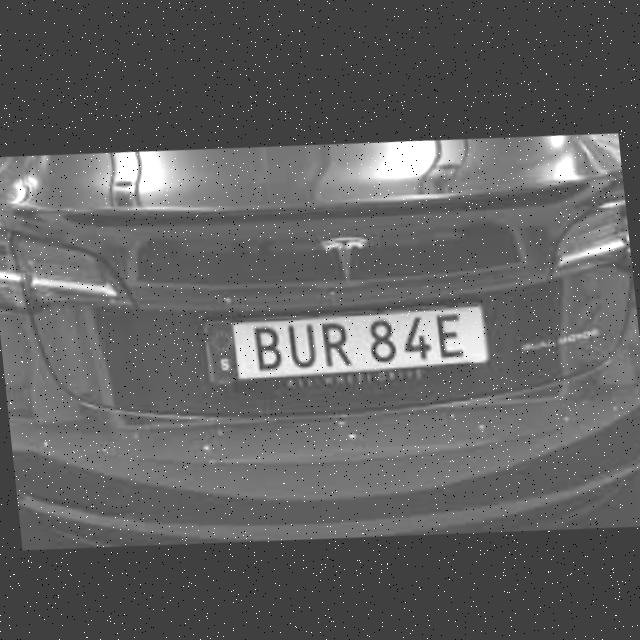license-plates: (207, 306, 490, 386)
